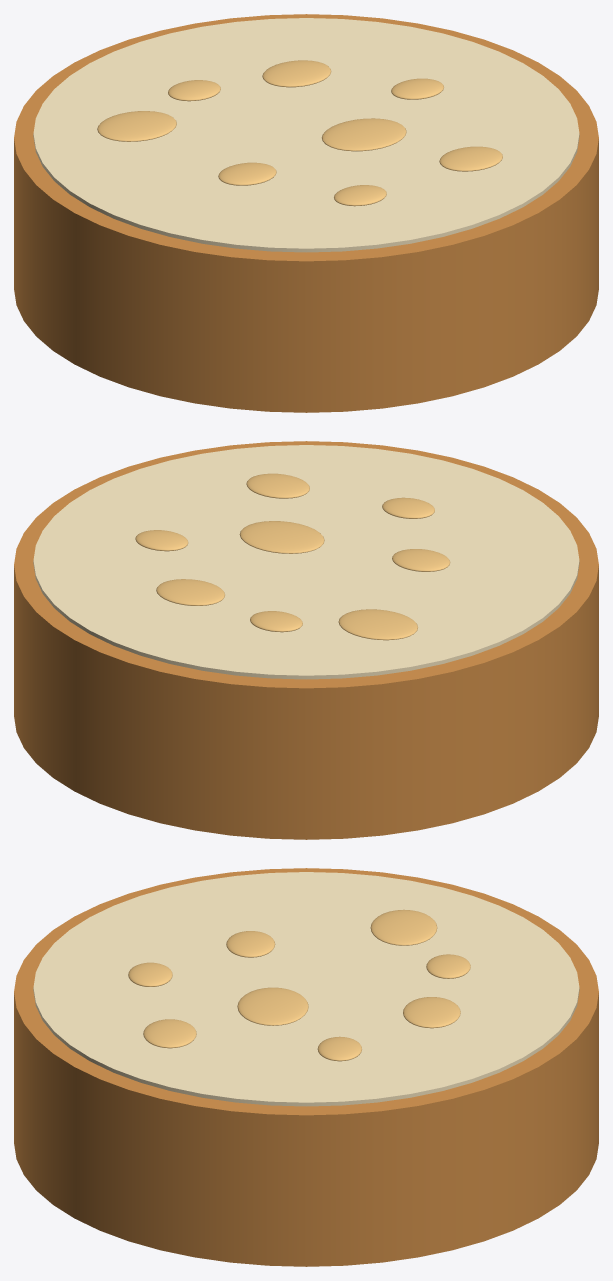
Rendered from crumb.glb.
3 renders of one model, top to bottom at view 1: azimuth 30°, elevation 25°; view 2: azimuth 150°, elevation 25°; view 3: azimuth 270°, elevation 25°, orthographic.
Parts seen in each view (by area): view 1: 노릇한 빵 껍질, 부드러운 빵 속, 밝은 구움색; view 2: 노릇한 빵 껍질, 부드러운 빵 속, 밝은 구움색; view 3: 노릇한 빵 껍질, 부드러운 빵 속, 밝은 구움색.
Boxes of the visible parts, x1,y1,x2,y2 form: 노릇한 빵 껍질: [14, 14, 598, 412]; 부드러운 빵 속: [33, 18, 579, 252]; 밝은 구움색: [97, 60, 502, 206]; 노릇한 빵 껍질: [14, 441, 598, 839]; 부드러운 빵 속: [33, 445, 579, 679]; 밝은 구움색: [135, 473, 450, 640]; 노릇한 빵 껍질: [14, 868, 598, 1266]; 부드러운 빵 속: [33, 872, 579, 1106]; 밝은 구움색: [128, 909, 470, 1061].
Size of the model in its own units: 2.1 by 0.635 by 2.1.
